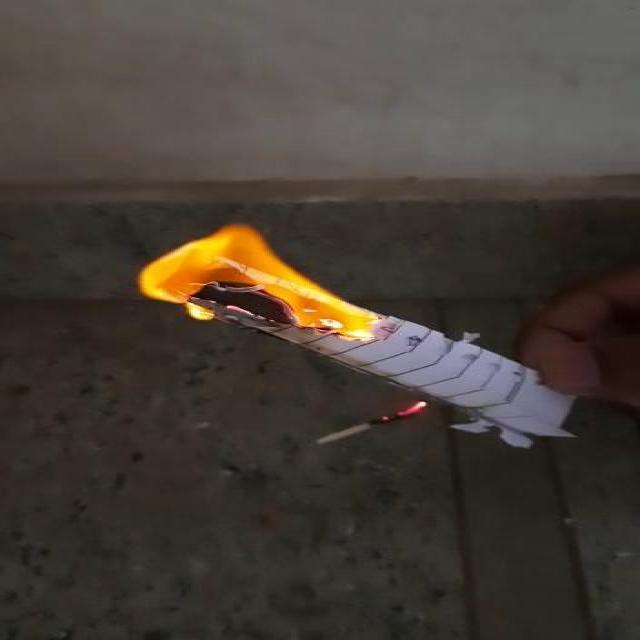Fire: (132, 214, 382, 355)
